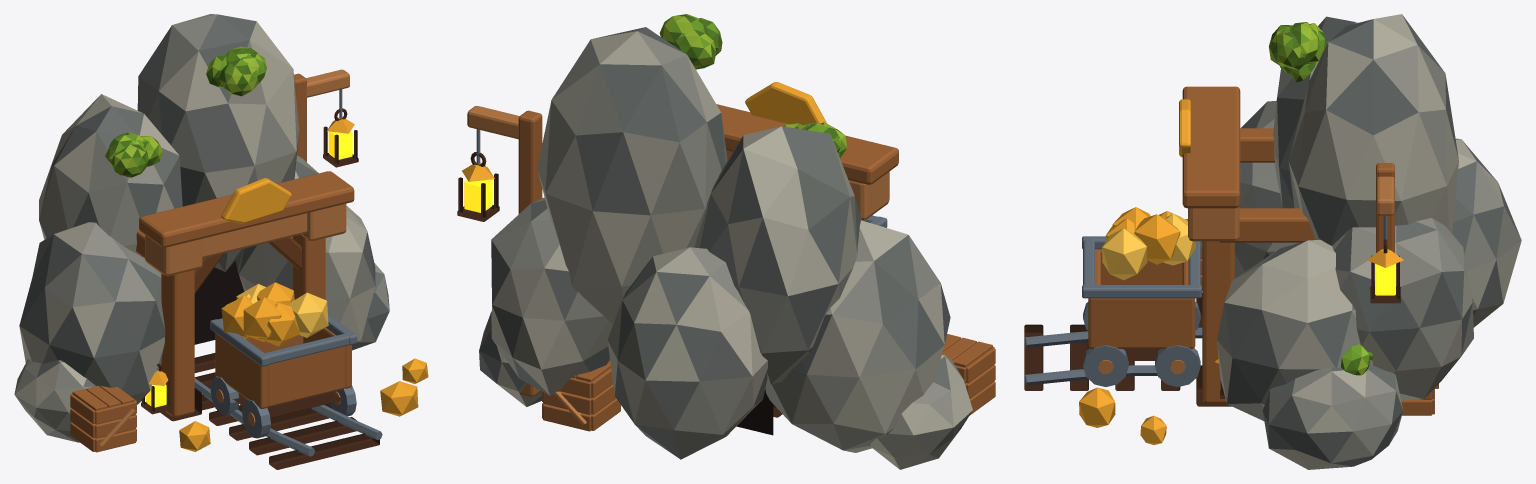
The model's file is gold_mine.glb.
The picture shows the model from 3 angles, left to right: view 1: azimuth 30°, elevation 25°; view 2: azimuth 150°, elevation 25°; view 3: azimuth 270°, elevation 25°; orthographic projection. The views are drawn at different scales.
Parts seen in each view (by area): view 1: Mine outcrop.003, Mine outcrop, Mine outcrop.002, Mine outcrop.001, Mine projecting lintel cap, Mine portal upright, Mine outcrop.005, Cart end, Mine tunnel darkness, Cart side, Heavy mine lintel, Gold mine raised ore emblem (+37 smaller); view 2: Mine outcrop.003, Mine outcrop.002, Mine outcrop.007, Mine outcrop, Mine outcrop.004, Mine outcrop.005, Mine projecting lintel cap, Mine lantern post, Gold mine raised ore emblem, Mine outcrop.006, Mine lantern arm, Mine portal front capital (+6 smaller); view 3: Mine outcrop.003, Mine outcrop.001, Mine outcrop.004, Mine outcrop.006, Mine outcrop.007, Mine projecting lintel cap, Cart side.001, Mine portal upright.001, Mine outcrop, Mine outcrop.002, Mine portal deep side beam.001, Mine portal front capital.001 (+23 smaller).
Boxes of the visible parts, x1,y1,x2,y2 form: Mine outcrop.003: (137, 14, 299, 271); Mine outcrop: (19, 222, 165, 404); Mine outcrop.002: (39, 94, 182, 257); Mine outcrop.001: (238, 205, 375, 341); Mine projecting lintel cap: (139, 171, 354, 247); Mine portal upright: (161, 270, 194, 417); Mine outcrop.005: (14, 359, 95, 442); Cart end: (268, 346, 344, 407); Mine tunnel darkness: (194, 260, 244, 344); Cart side: (215, 333, 267, 408); Heavy mine lintel: (202, 213, 307, 258); Gold mine raised ore emblem: (221, 178, 291, 223); Mine outcrop.003: (537, 27, 727, 323); Mine outcrop.002: (694, 126, 861, 384); Mine outcrop.007: (607, 247, 767, 459); Mine outcrop: (765, 220, 950, 452); Mine outcrop.004: (491, 197, 613, 395); Mine outcrop.005: (869, 355, 972, 469); Mine projecting lintel cap: (716, 104, 898, 184); Mine lantern post: (518, 110, 542, 396); Gold mine raised ore emblem: (745, 82, 826, 124); Mine outcrop.006: (479, 311, 541, 406); Mine lantern arm: (467, 106, 519, 139); Mine portal front capital: (848, 171, 889, 220); Mine outcrop.003: (1288, 14, 1458, 245); Mine outcrop.001: (1217, 239, 1373, 420); Mine outcrop.004: (1332, 218, 1473, 400); Mine outcrop.006: (1262, 365, 1403, 469); Mine outcrop.007: (1452, 138, 1521, 327); Mine projecting lintel cap: (1182, 86, 1240, 208); Cart side.001: (1088, 298, 1195, 348); Mine portal upright.001: (1202, 241, 1234, 403); Mine outcrop: (1235, 100, 1298, 278); Mine outcrop.002: (1273, 16, 1358, 208); Mine portal deep side beam.001: (1219, 208, 1315, 242); Mine portal front capital.001: (1188, 206, 1239, 241).
Size of the model in its own units: 4.14 by 3.65 by 4.15.
